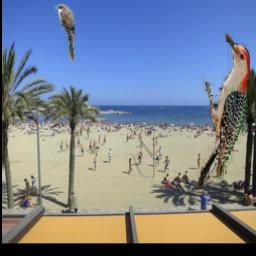Cuckoo: (54, 5, 75, 62)
Woodpecker: (196, 33, 250, 187)
